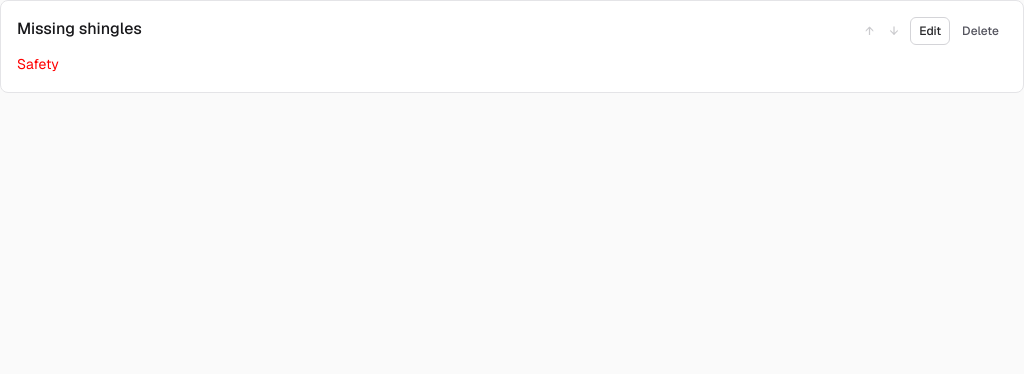
Test: CommentCard editor guards › clicking the current mode does nothing; confirming switches lossy content to visual
Click the button "Edit": (930, 31) [910, 17, 950, 45]
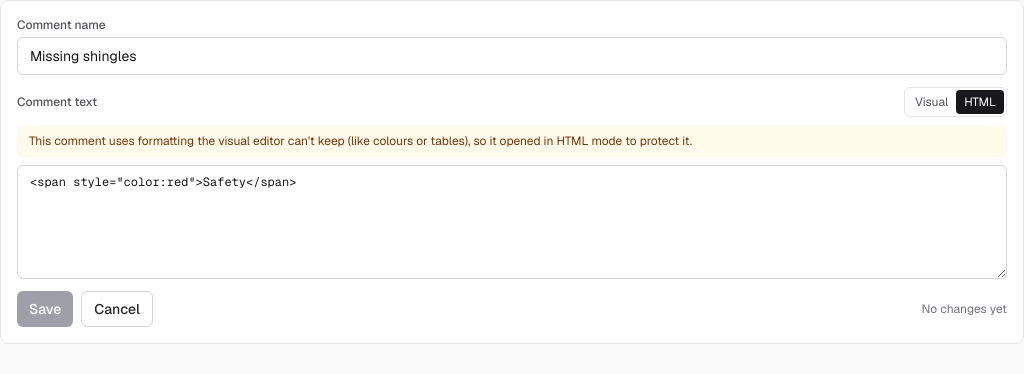
Click the tab "HTML": (980, 102) [956, 90, 1004, 114]
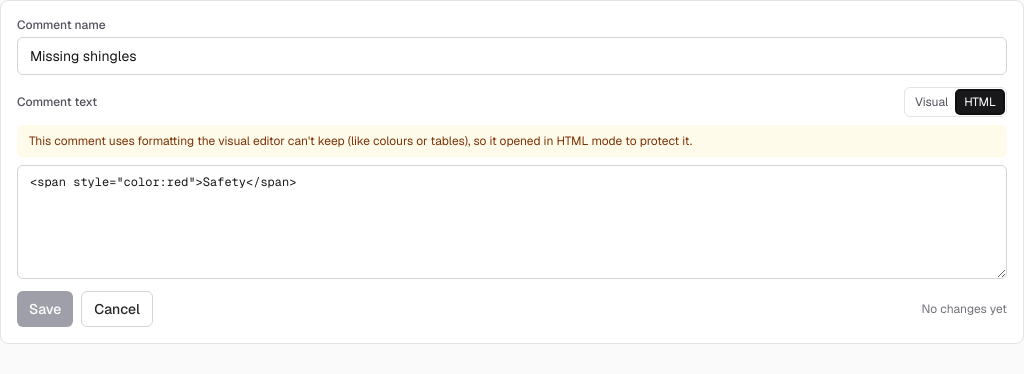
Click the tab "Visual": (932, 102) [907, 90, 956, 114]
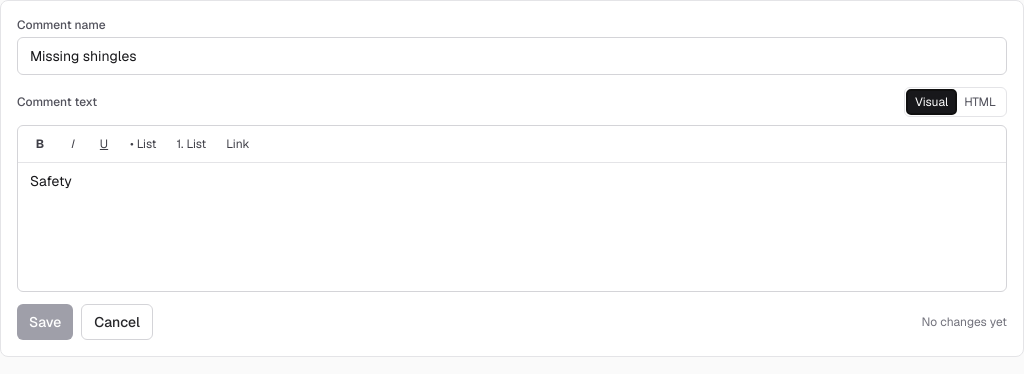
Check: the element named "Formatting" is shown, box [18, 126, 1006, 163]
